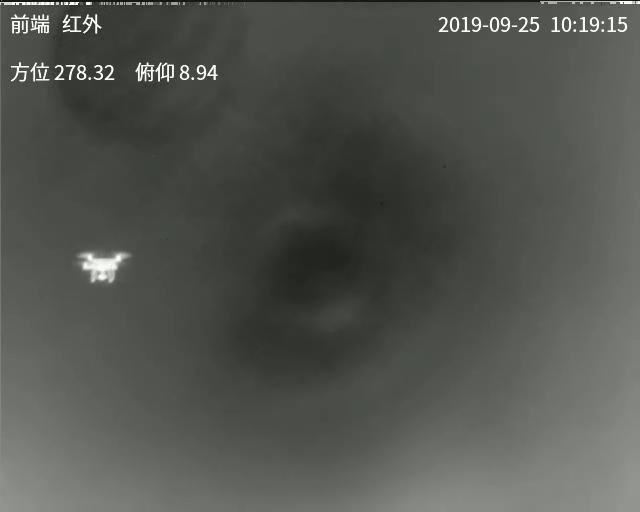uav: (69, 249, 127, 285)
